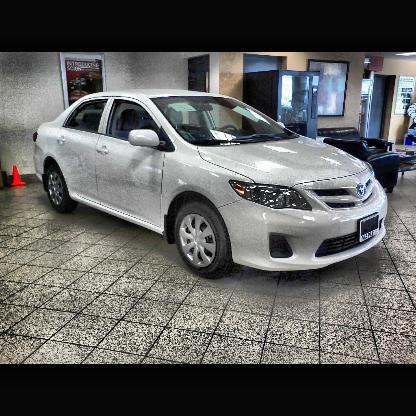Toyota Corolla Sedan 2012: (31, 87, 392, 283)
